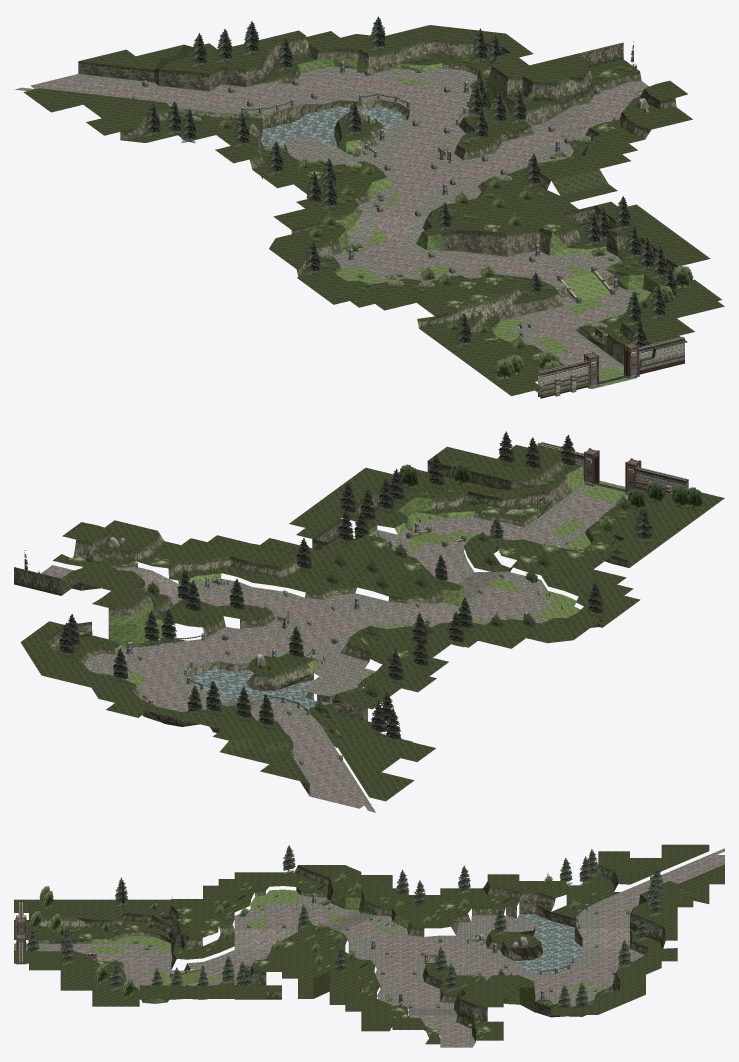
Rendered from West4.obj.
The picture shows the model from 3 angles, top to bottom: view 1: azimuth 30°, elevation 25°; view 2: azimuth 150°, elevation 25°; view 3: azimuth 270°, elevation 25°; orthographic projection. The views are drawn at different scales.
Parts seen in each view (by area): view 1: Object.51, Object.181, Object.240, Object.176, Object.182, Object.58, Object.204, Object.196, Object.201, Object.143, Object.134, Object.226 (+87 smaller); view 2: Object.185, Object.240, Object.176, Object.181, Object.201, Object.116, Object.204, Object.190, Object.182, Object.196, Object.177, Object.174 (+79 smaller); view 3: Object.185, Object.240, Object.181, Object.176, Object.196, Object.202, Object.182, Object.204, Object.177, Object.210, Object.195, Object.201 (+95 smaller).
Part boxes in pixels (box(x1,y1,x2,y2)): Object.51: box(457, 228, 551, 256); Object.181: box(538, 140, 630, 191); Object.240: box(357, 278, 456, 310); Object.176: box(482, 163, 576, 207); Object.182: box(513, 192, 606, 243); Object.58: box(499, 72, 557, 126); Object.204: box(33, 91, 133, 117); Object.196: box(447, 339, 526, 375); Object.201: box(161, 43, 260, 73); Object.143: box(374, 200, 419, 251); Object.134: box(397, 85, 460, 125); Object.226: box(391, 28, 490, 70); Object.185: box(409, 446, 512, 510); Object.240: box(541, 555, 626, 597); Object.176: box(253, 551, 359, 593); Object.181: box(188, 535, 290, 582); Object.201: box(206, 705, 284, 752); Object.116: box(473, 470, 553, 527); Object.204: box(348, 750, 414, 794); Object.190: box(475, 463, 557, 520); Object.182: box(293, 535, 390, 569); Object.196: box(614, 508, 695, 546); Object.177: box(474, 540, 567, 575); Object.174: box(111, 571, 215, 642); Object.185: box(60, 963, 123, 999); Object.240: box(187, 885, 254, 912); Object.181: box(313, 978, 380, 1004); Object.176: box(313, 958, 379, 985); Object.196: box(60, 899, 123, 919); Object.202: box(566, 871, 629, 905); Object.182: box(251, 958, 313, 985); Object.204: box(630, 844, 693, 871); Object.177: box(187, 912, 234, 946); Object.210: box(377, 901, 440, 928); Object.195: box(122, 899, 187, 926); Object.201: box(631, 887, 693, 913).
Size of the model in its own units: 119 by 22 by 180.
